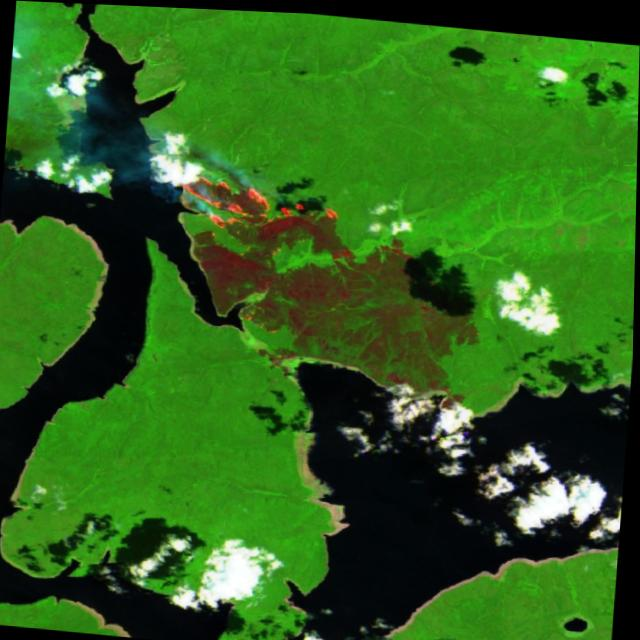fire: (159, 155, 354, 261)
